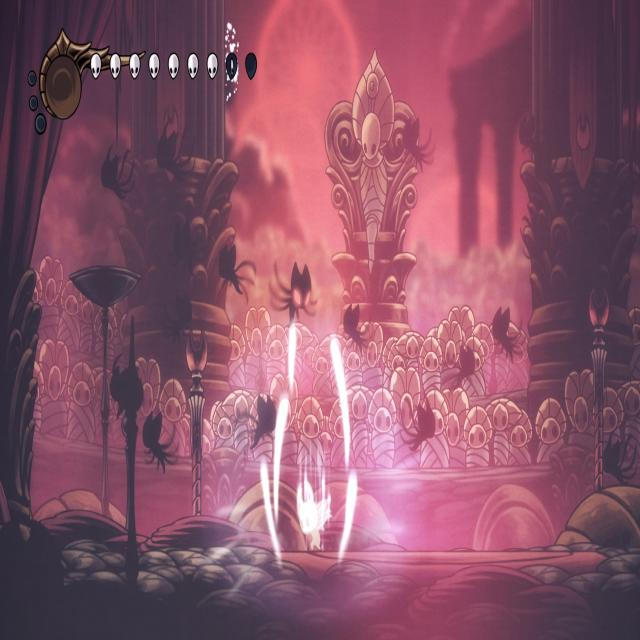Player: (294, 474, 334, 554)
Staggered_Grimm: (268, 258, 319, 332)
